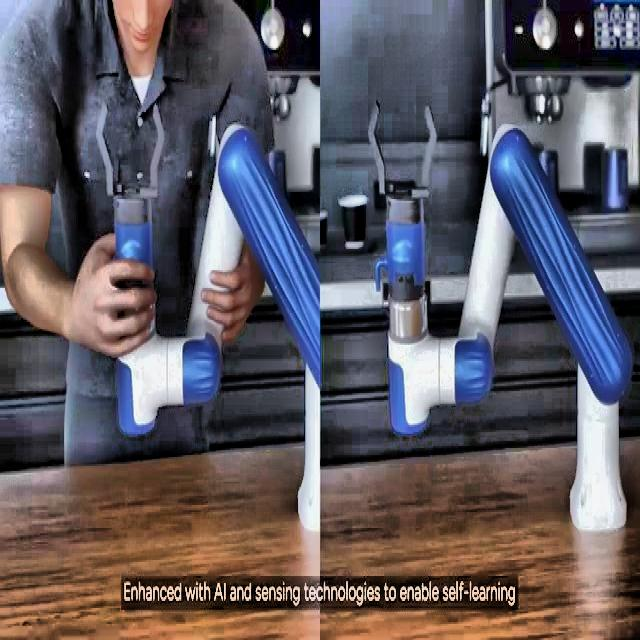robot: (370, 100, 633, 532), (95, 101, 321, 532)
